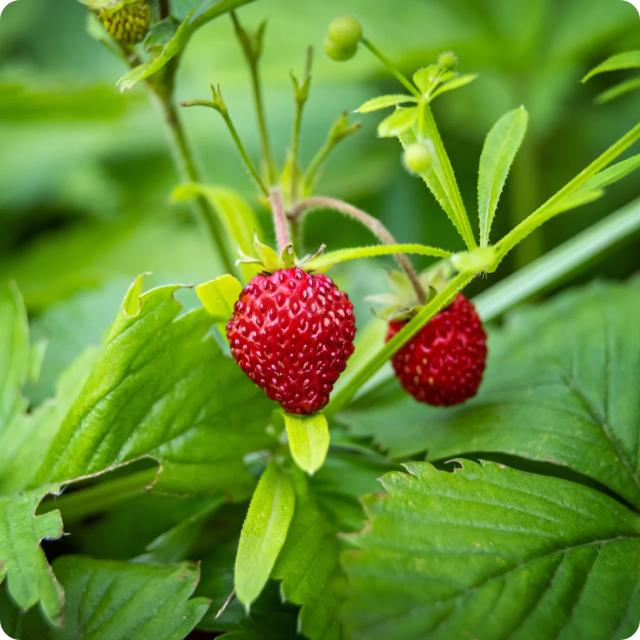strawberry: (194, 186, 360, 444)
